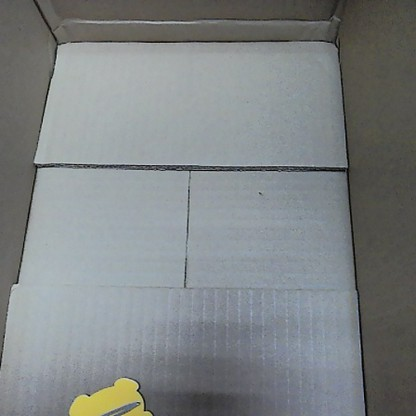dogclip: (66, 376, 154, 414)
